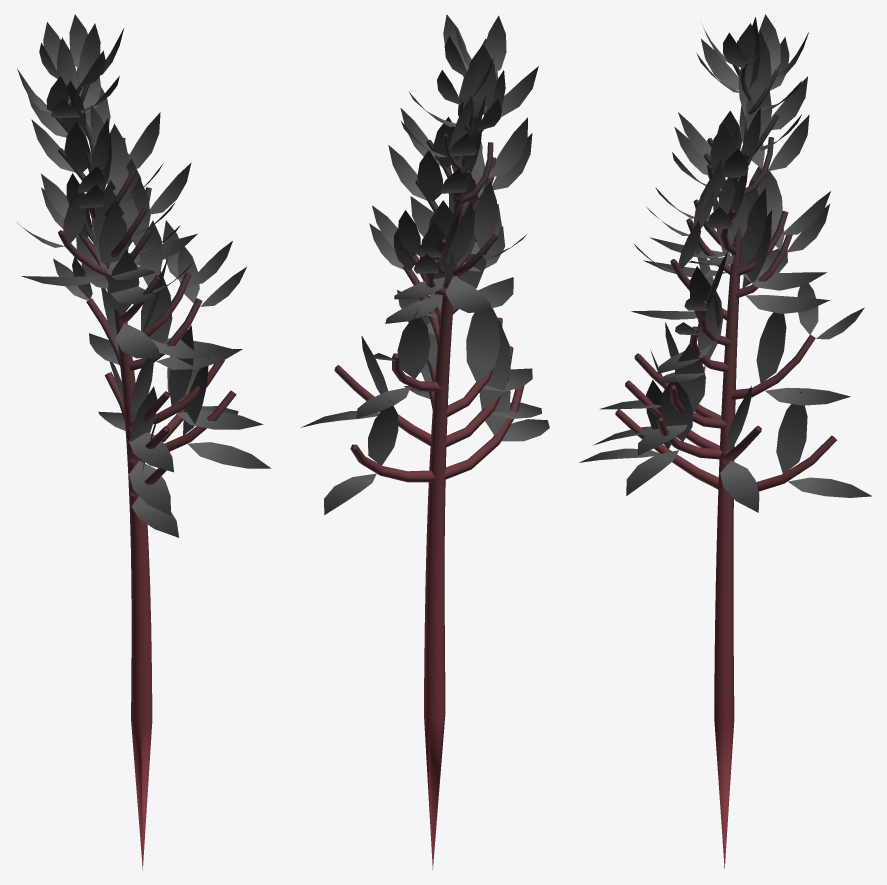
The model's file is plants-bushes-twigs-leafy-twig_v3.glb.
The picture shows the model from 3 angles, left to right: view 1: azimuth 30°, elevation 25°; view 2: azimuth 150°, elevation 25°; view 3: azimuth 270°, elevation 25°; orthographic projection. The views are drawn at different scales.
Parts seen in each view (by area): view 1: Leafy Twig_v3; view 2: Leafy Twig_v3; view 3: Leafy Twig_v3.
Part boxes in pixels (x1=…): Leafy Twig_v3: x1=17, y1=14, x2=270, y2=870; Leafy Twig_v3: x1=301, y1=14, x2=549, y2=870; Leafy Twig_v3: x1=579, y1=14, x2=871, y2=868.
Size of the model in its own units: 0.1656 by 0.6 by 0.1923.
